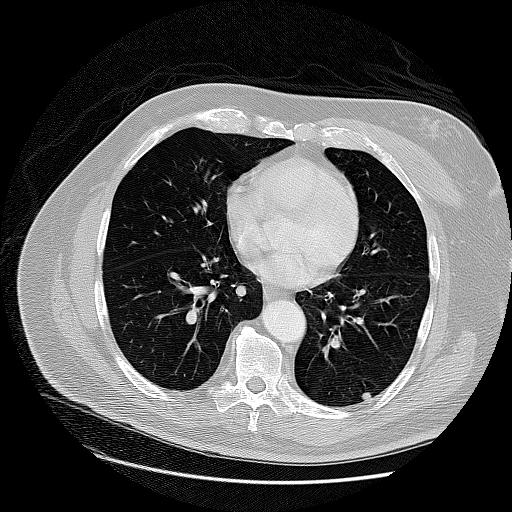nodule: (232, 282, 250, 300)
